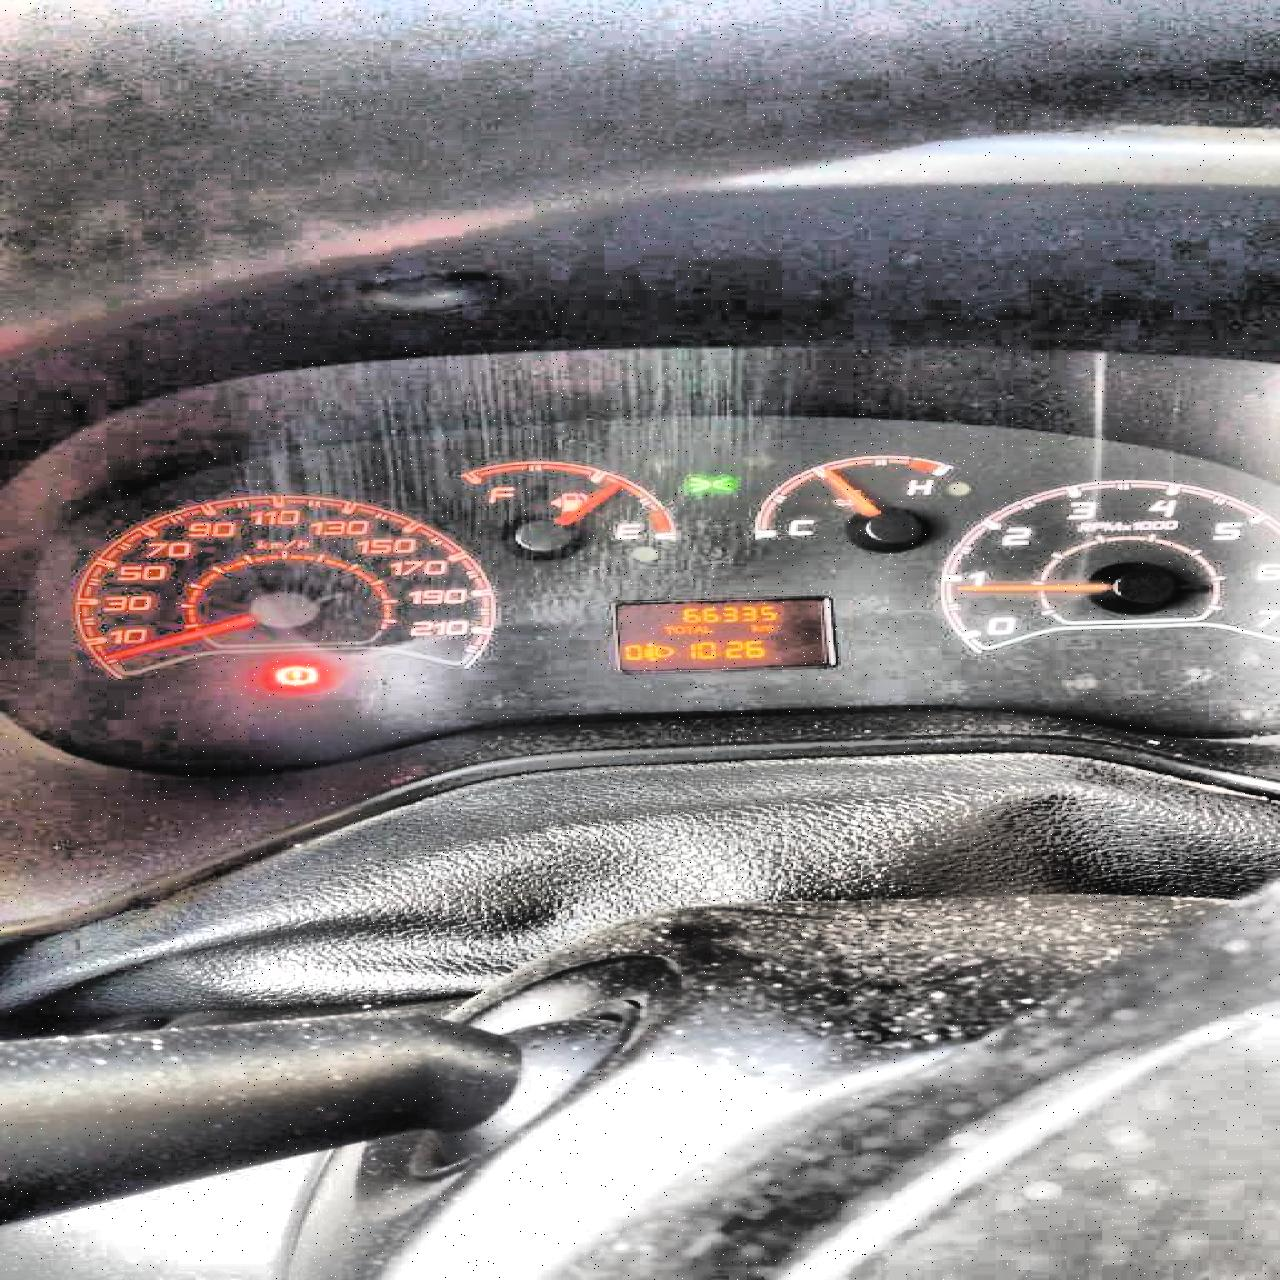0: (695, 640, 715, 659), (622, 644, 640, 660)
1: (685, 642, 694, 659)
2: (722, 640, 742, 658)
3: (737, 605, 756, 621), (720, 606, 738, 621)
5: (756, 605, 776, 620)
6: (742, 639, 762, 658), (680, 606, 700, 622), (700, 606, 719, 621)
X: (670, 624, 682, 633), (682, 624, 692, 634), (660, 625, 670, 634), (702, 624, 712, 633), (747, 624, 757, 632), (692, 624, 700, 633), (757, 625, 774, 629)
odometer: (600, 593, 842, 675)
